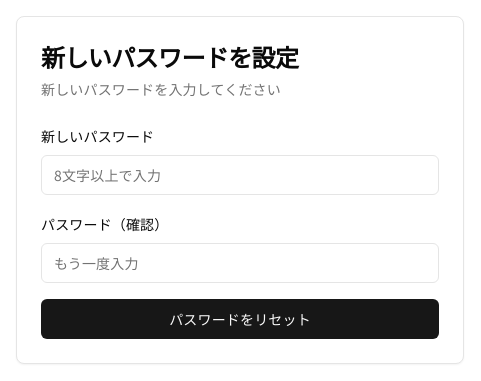
it: ResetPasswordPage › should successfully reset password
Type "newPassword123" into the password field labelled "新しいパスワード" at (240, 175), box [41,155,439,195]
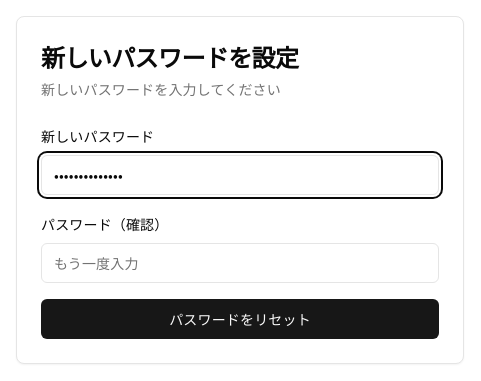
Type "newPassword123" into the password field labelled "パスワード（確認）" at (240, 263), box [41,243,439,283]
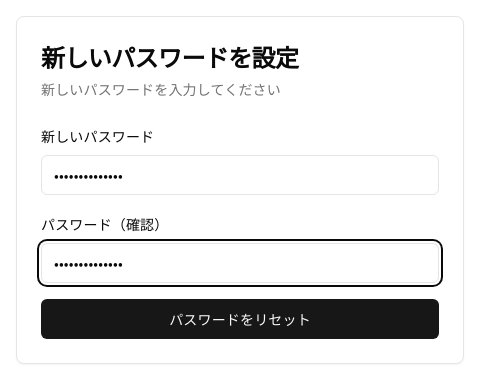
Click the button "パスワードをリセット" at (240, 319), box [41,299,439,339]
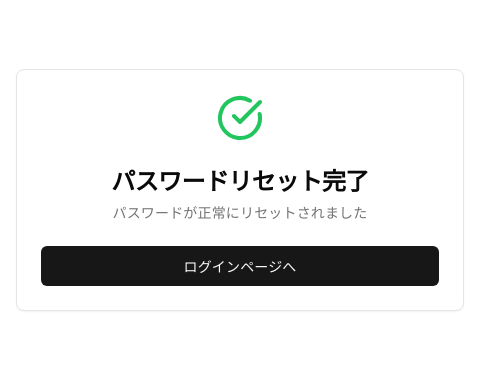
Check: the text "パスワードリセット完了" is shown, box [111,162,369,197]
Check: the text "パスワードが正常にリセットされました" is shown, box [112,202,367,222]
